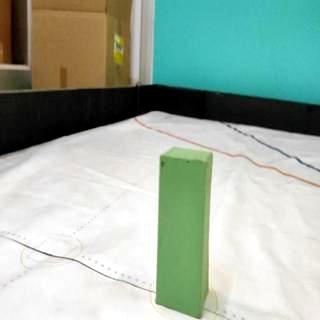greenbox: (154, 145, 213, 320)
